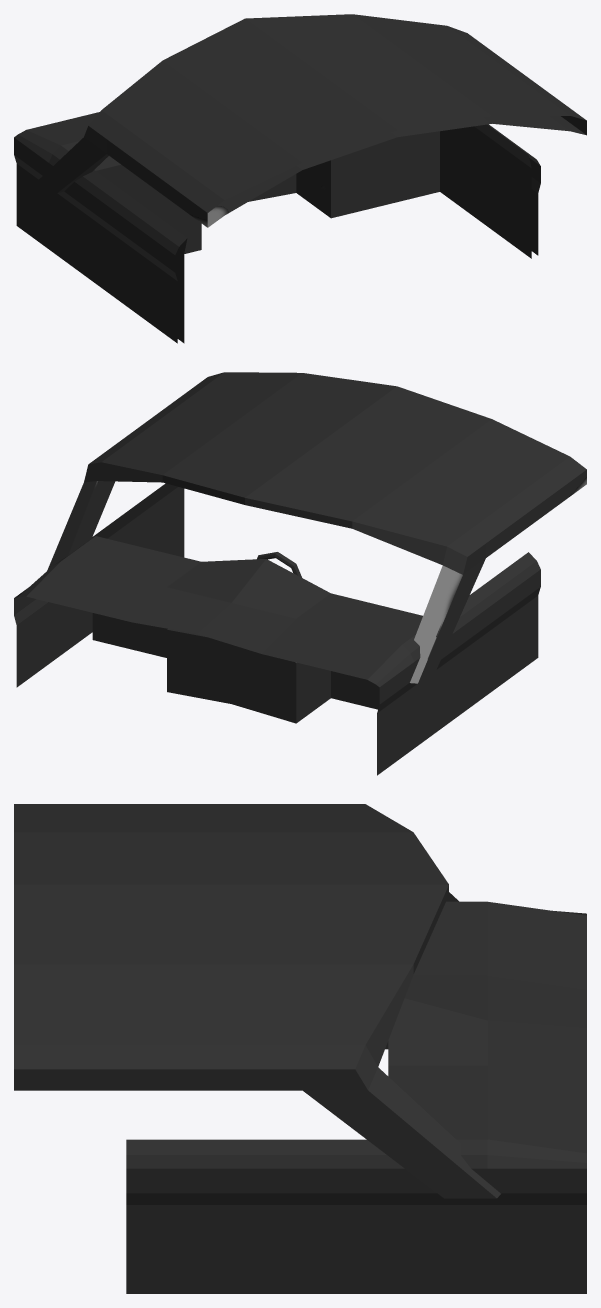
File: CockpitF1.glb
The picture shows the model from 3 angles, top to bottom: view 1: azimuth 30°, elevation 25°; view 2: azimuth 150°, elevation 25°; view 3: azimuth 270°, elevation 25°; orthographic projection. The views are drawn at different scales.
Parts seen in each view (by area): view 1: Cockpit.001; view 2: Cockpit.001; view 3: Cockpit.001.
Part boxes in pixels (x1=…): Cockpit.001: x1=14, y1=14, x2=586, y2=343; Cockpit.001: x1=14, y1=372, x2=586, y2=775; Cockpit.001: x1=14, y1=804, x2=586, y2=1293.
Bounding box in the file's own units: 0.6654 × 0.3356 × 0.6096.
1 material, 1 textured.
